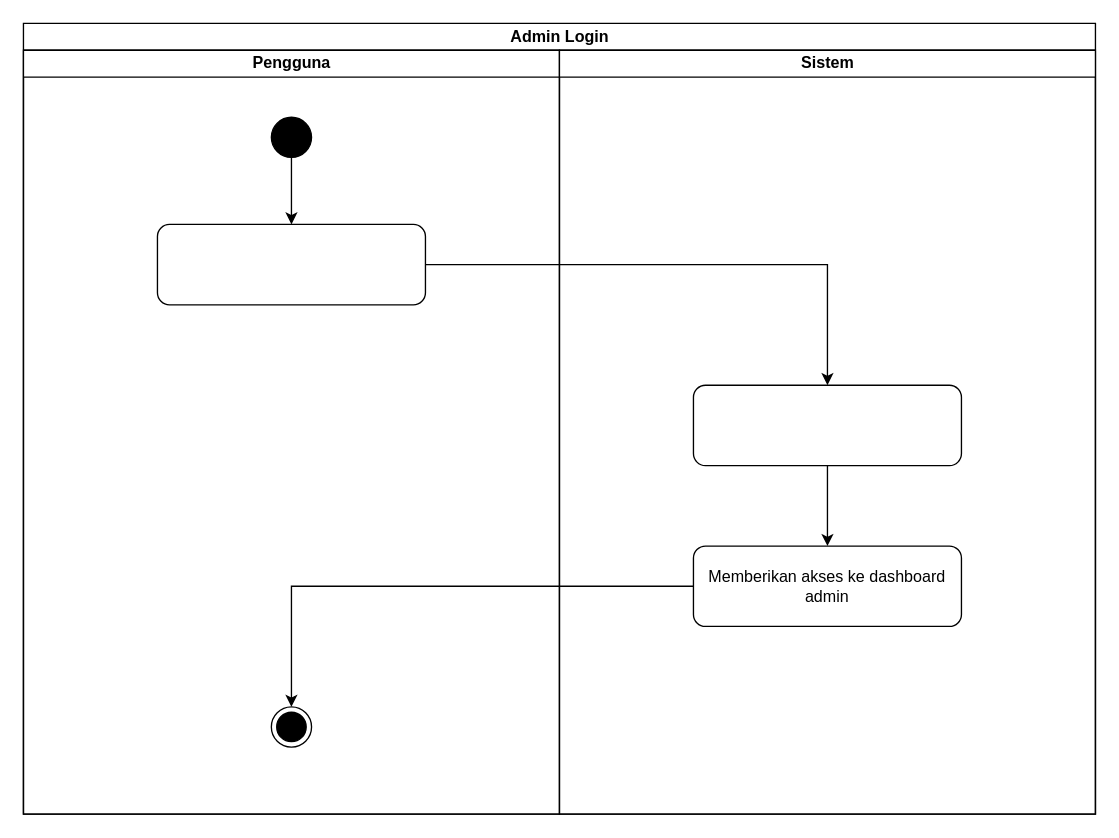
The diagram is 1119 pixels wide and 838 high, and some of its shapes have lost their labels. Here are the shapes that lost their labels. From the top down, the centre of each, then its label:
(290,264): Memasukkan kredensial admin
(826,425): Memverifikasi status admin
